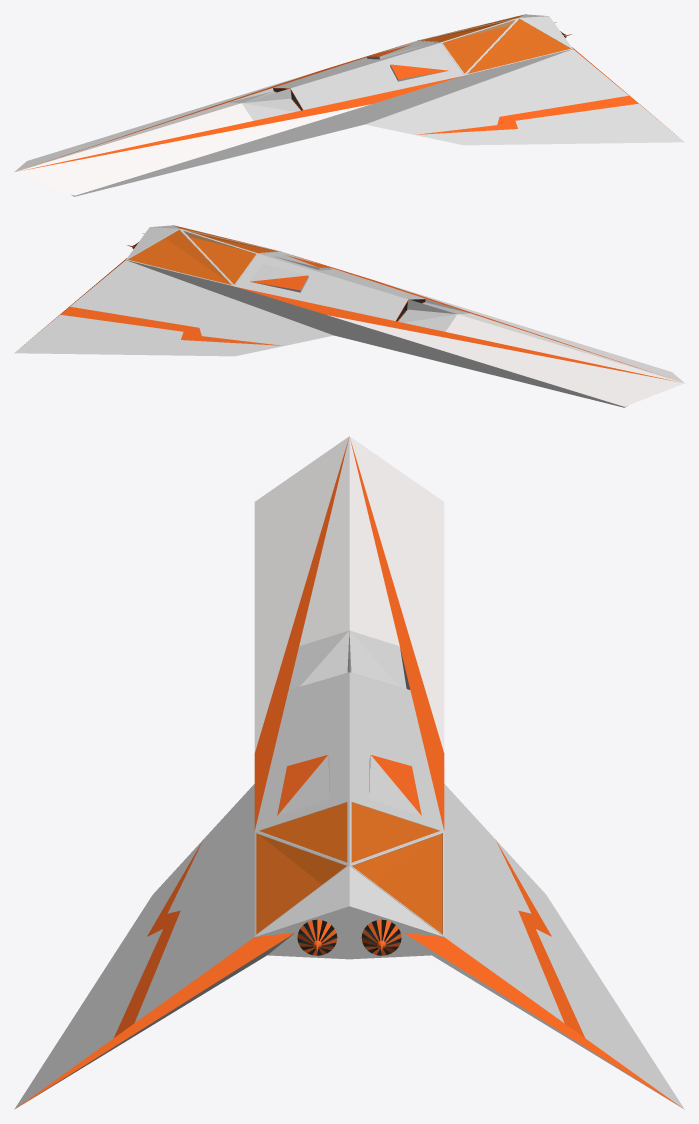
File: rship.obj
The picture shows the model from 3 angles, top to bottom: view 1: azimuth 30°, elevation 25°; view 2: azimuth 150°, elevation 25°; view 3: azimuth 270°, elevation 25°; orthographic projection. The views are drawn at different scales.
Visible parts, largest first — view 1: Mesh1 Component_6_1 Model, Mesh2 Component_6_2 Model; view 2: Mesh2 Component_6_2 Model, Mesh1 Component_6_1 Model; view 3: Mesh1 Component_6_1 Model, Mesh2 Component_6_2 Model.
Part boxes in pixels (<box>): Mesh1 Component_6_1 Model: <box>14,16,684,196</box>; Mesh2 Component_6_2 Model: <box>15,14,556,171</box>; Mesh2 Component_6_2 Model: <box>14,227,684,407</box>; Mesh1 Component_6_1 Model: <box>142,225,683,382</box>; Mesh1 Component_6_1 Model: <box>14,436,351,1109</box>; Mesh2 Component_6_2 Model: <box>347,436,684,1109</box>.
Size of the model in its own units: 21.31 by 2.88 by 10.59.
